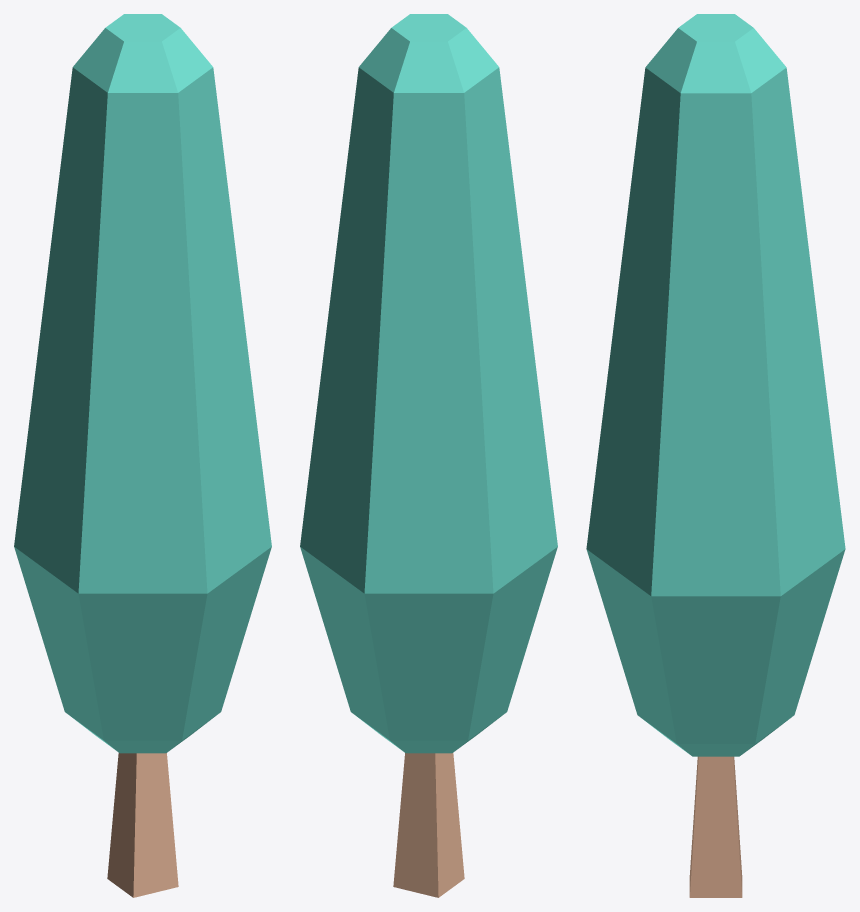
The model's file is tree_tall.glb.
The picture shows the model from 3 angles, left to right: view 1: azimuth 30°, elevation 25°; view 2: azimuth 150°, elevation 25°; view 3: azimuth 270°, elevation 25°; orthographic projection.
Parts seen in each view (by area): view 1: tree_tall; view 2: tree_tall; view 3: tree_tall.
Part boxes in pixels (x1,y1,x2,y2): tree_tall: [14, 14, 271, 897]; tree_tall: [300, 14, 557, 897]; tree_tall: [586, 14, 845, 897].
Bounding box in the file's own units: 0.4795 × 2.03 × 0.5537.
